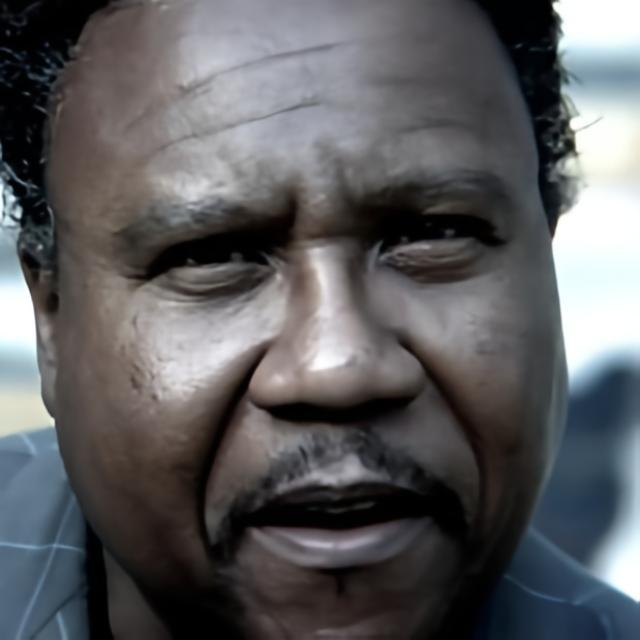disgust: (53, 0, 570, 640)
